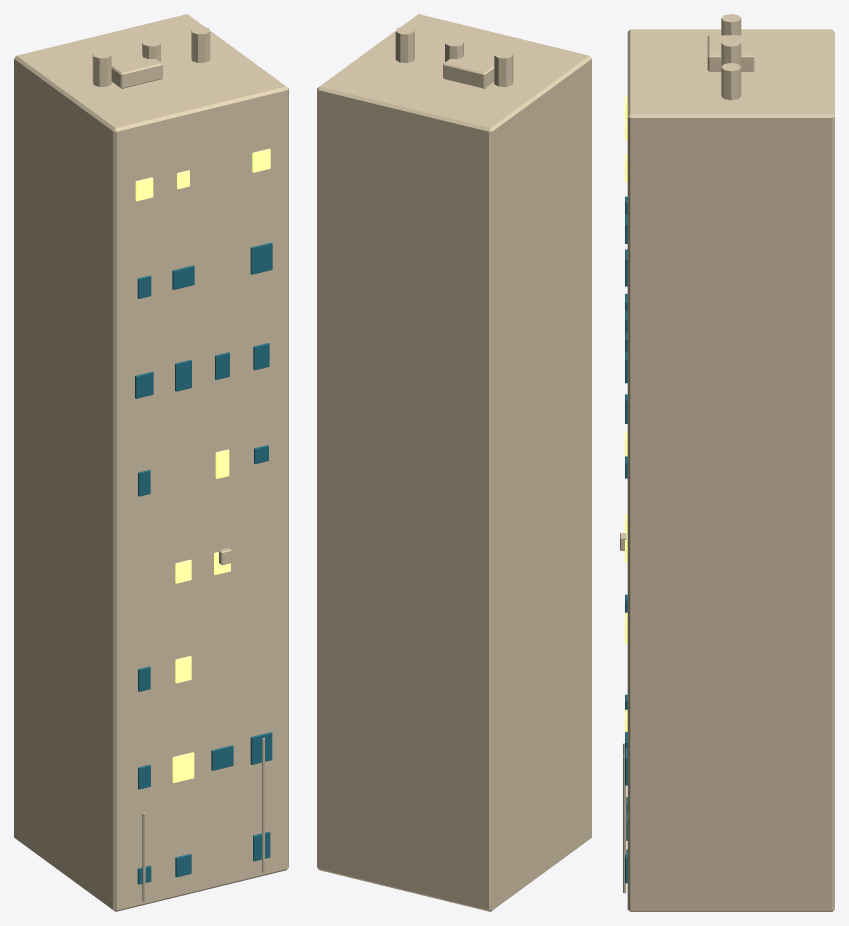
The model's file is building_002_seed11.glb.
The picture shows the model from 3 angles, left to right: view 1: azimuth 30°, elevation 25°; view 2: azimuth 150°, elevation 25°; view 3: azimuth 270°, elevation 25°; orthographic projection.
Parts seen in each view (by area): view 1: building_002_seed11; view 2: building_002_seed11; view 3: building_002_seed11.
Part boxes in pixels (x1,y1,x2,y2): building_002_seed11: (14, 14, 288, 911); building_002_seed11: (317, 14, 591, 911); building_002_seed11: (620, 14, 834, 911).
Bounding box in the file's own units: 5.79 × 25.58 × 6.02.
